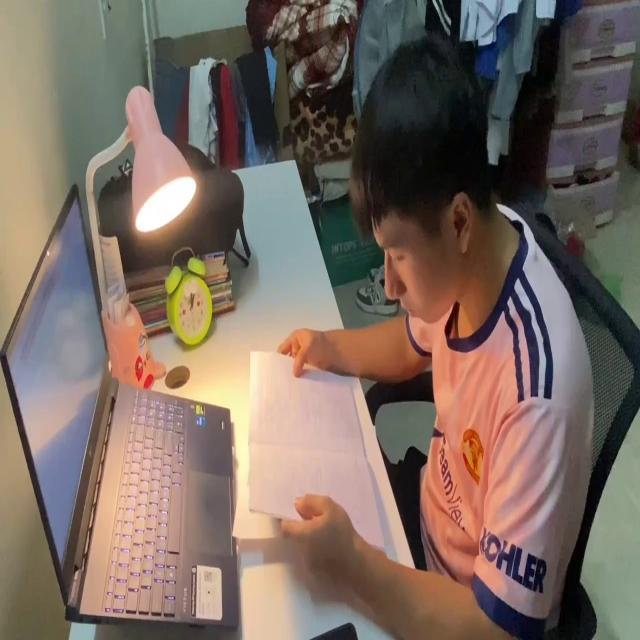book: (247, 344, 385, 568)
laptop: (6, 174, 241, 640)
phone: (302, 612, 360, 640)
student: (279, 34, 595, 640)
